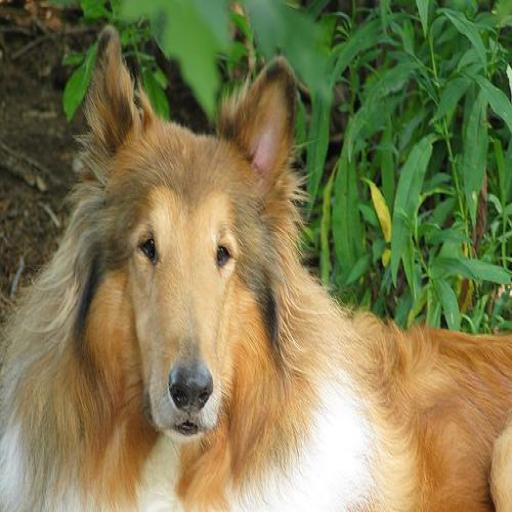dog_face: (82, 33, 314, 445)
